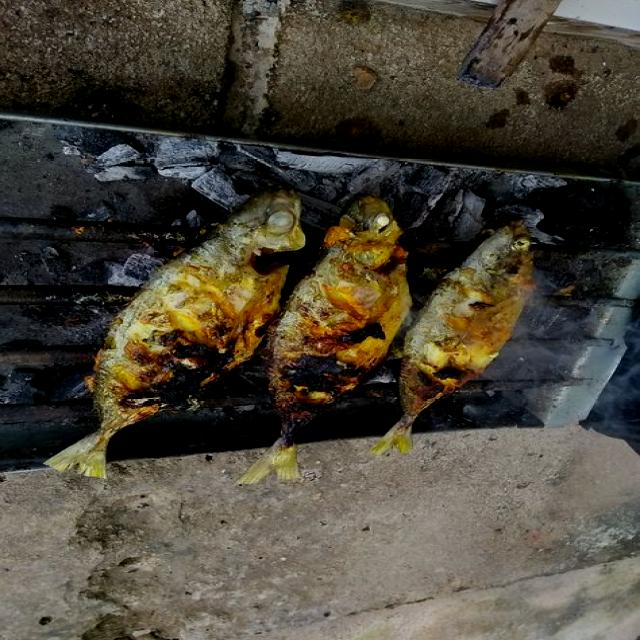ikan bakar: (54, 185, 308, 472), (240, 192, 413, 484), (375, 218, 535, 451)
